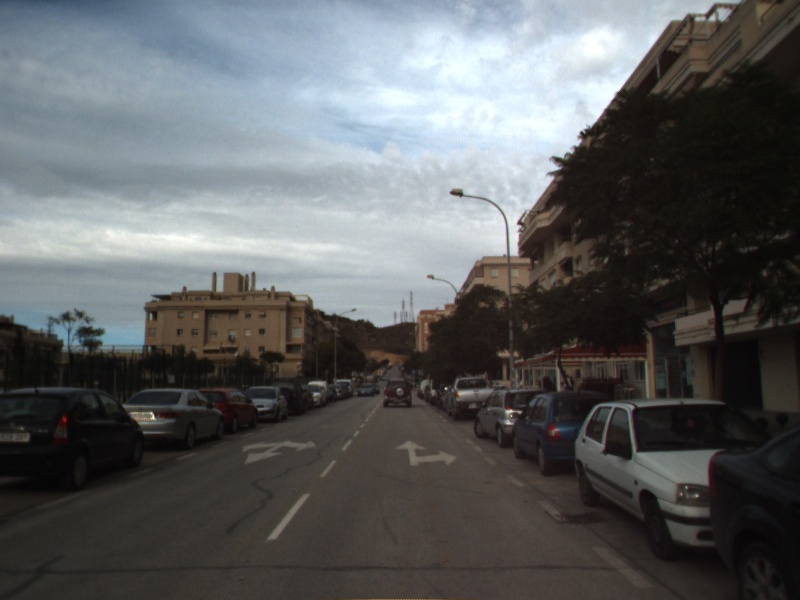STRAIGHT_RIGHT: (393, 438, 459, 468)
